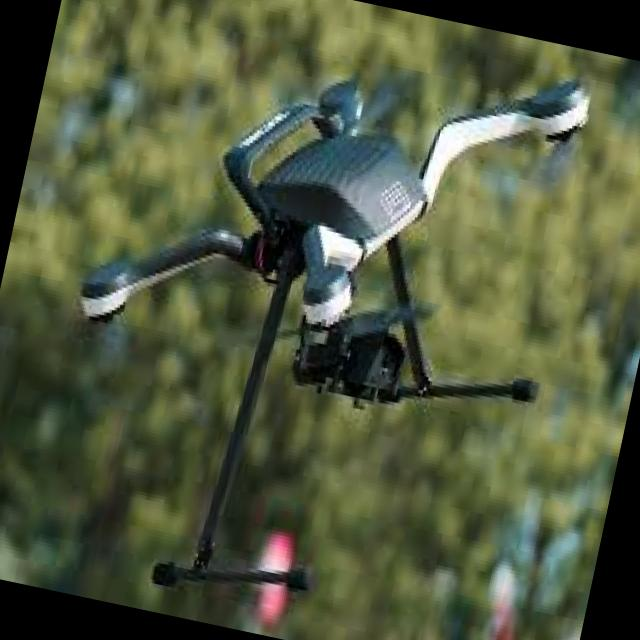drone: (22, 0, 615, 640)
